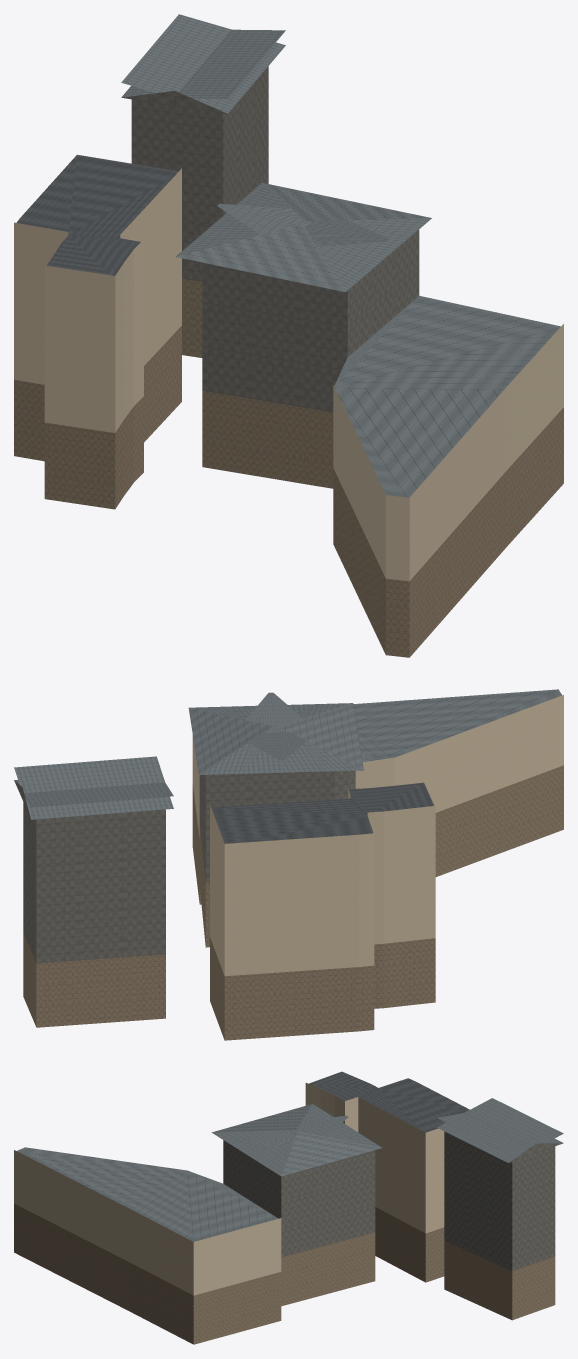
The model's file is bld_c15_25_400.gltf.
3 renders of one model, top to bottom at view 1: azimuth 30°, elevation 25°; view 2: azimuth 150°, elevation 25°; view 3: azimuth 270°, elevation 25°, orthographic. The views are drawn at different scales.
Visible parts, largest first — view 1: bld_c15_25_400; view 2: bld_c15_25_400; view 3: bld_c15_25_400.
Part boxes in pixels (x1,y1,x2,y2): bld_c15_25_400: (14, 14, 563, 657); bld_c15_25_400: (14, 689, 563, 1040); bld_c15_25_400: (14, 1071, 563, 1344).
Size of the model in its own units: 28.2 by 18.9 by 51.79.
7 materials, 7 textured.
